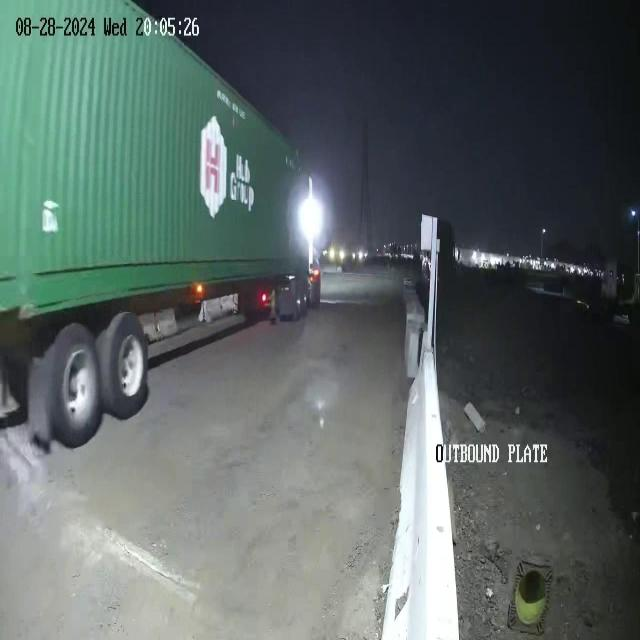TRUCK_CONTAINER: (1, 1, 321, 450)
